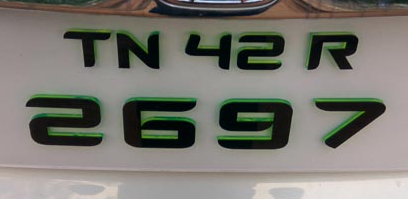2: (25, 90, 106, 148), (236, 31, 288, 74)
4: (182, 31, 234, 70)
6: (121, 97, 200, 151)
7: (312, 95, 387, 152)
9: (217, 97, 298, 151)
N: (115, 30, 163, 71)
R: (304, 30, 364, 72)
T: (63, 27, 112, 69)
